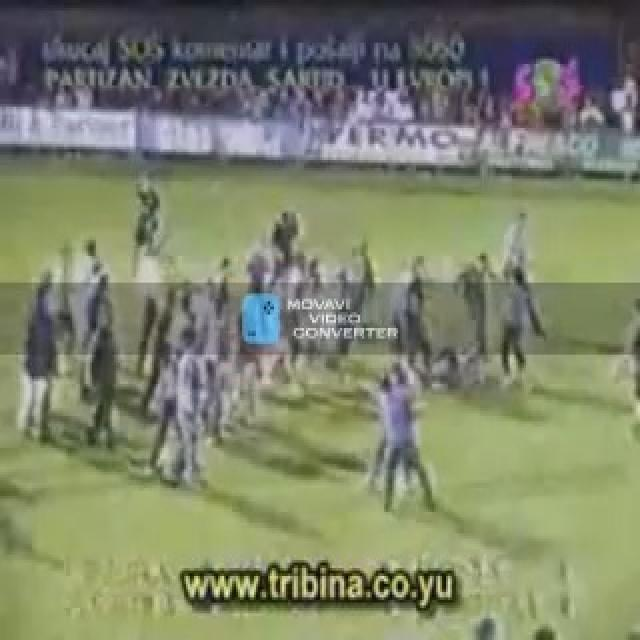non-voilence: (14, 173, 550, 518), (2, 16, 638, 168)
